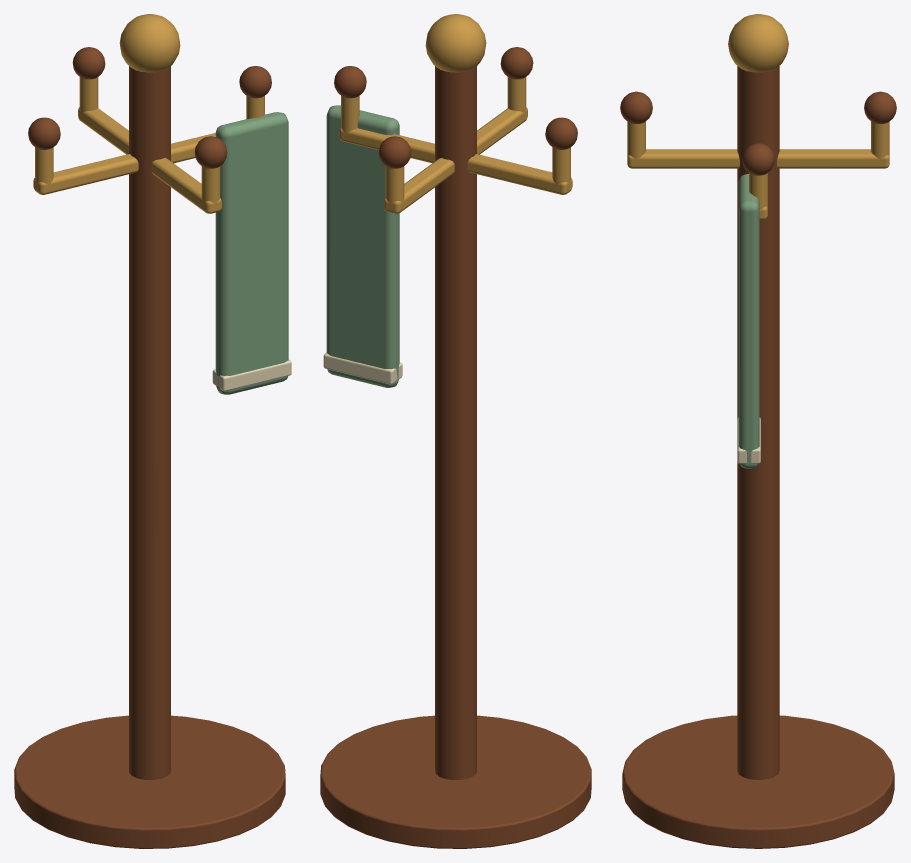
Rendered from coat_rack.glb.
3 renders of one model, left to right at view 1: azimuth 30°, elevation 25°; view 2: azimuth 150°, elevation 25°; view 3: azimuth 270°, elevation 25°, orthographic.
Parts seen in each view (by area): view 1: Cylinder.001, Cylinder, Cube.004, Sphere, Cube, Cube.003, Cube.005, Cube.002, Sphere.004, Sphere.003, Sphere.001, Sphere.002 (+4 smaller); view 2: Cylinder.001, Cylinder, Cube.004, Sphere, Cube, Cube.002, Cube.001, Cube.005, Cube.003, Sphere.003, Sphere.004, Sphere.002 (+5 smaller); view 3: Cylinder, Cylinder.001, Cube.004, Sphere, Cube.002, Cube.003, Sphere.002, Sphere.003, Sphere.004, Cylinder.004, Cylinder.005.
Part boxes in pixels (left/top/right/bottom): Cylinder.001: left=129, top=66, right=170, bottom=779; Cylinder: left=14, top=715, right=285, bottom=848; Cube.004: left=215, top=112, right=288, bottom=394; Sphere: left=119, top=14, right=180, bottom=72; Cube: left=33, top=154, right=138, bottom=194; Cube.003: left=151, top=158, right=221, bottom=213; Cube.005: left=212, top=359, right=291, bottom=391; Cube.002: left=78, top=107, right=128, bottom=154; Sphere.004: left=194, top=136, right=227, bottom=168; Sphere.003: left=72, top=47, right=105, bottom=79; Sphere.001: left=28, top=117, right=60, bottom=149; Sphere.002: left=239, top=66, right=271, bottom=98; Cylinder.001: left=435, top=66, right=476, bottom=779; Cylinder: left=320, top=715, right=591, bottom=848; Cube.004: left=326, top=105, right=399, bottom=387; Sphere: left=425, top=14, right=486, bottom=72; Cube: left=467, top=154, right=572, bottom=194; Cube.002: left=384, top=158, right=454, bottom=213; Cube.001: left=339, top=127, right=435, bottom=163; Cube.005: left=323, top=352, right=402, bottom=384; Cube.003: left=477, top=107, right=527, bottom=154; Sphere.003: left=378, top=136, right=411, bottom=168; Sphere.004: left=500, top=47, right=533, bottom=79; Sphere.002: left=334, top=66, right=366, bottom=98; Cylinder: left=622, top=715, right=894, bottom=848; Cylinder.001: left=737, top=66, right=779, bottom=779; Cube.004: left=738, top=174, right=759, bottom=468; Sphere: left=728, top=14, right=788, bottom=72; Cube.002: left=777, top=149, right=889, bottom=168; Cube.003: left=627, top=149, right=739, bottom=168; Sphere.002: left=742, top=143, right=774, bottom=175; Sphere.003: left=864, top=91, right=896, bottom=123; Sphere.004: left=620, top=91, right=652, bottom=123; Cylinder.004: left=871, top=121, right=889, bottom=159; Cylinder.005: left=627, top=121, right=645, bottom=159.
Size of the model in its own units: 0.62 by 1.82 by 0.59.
